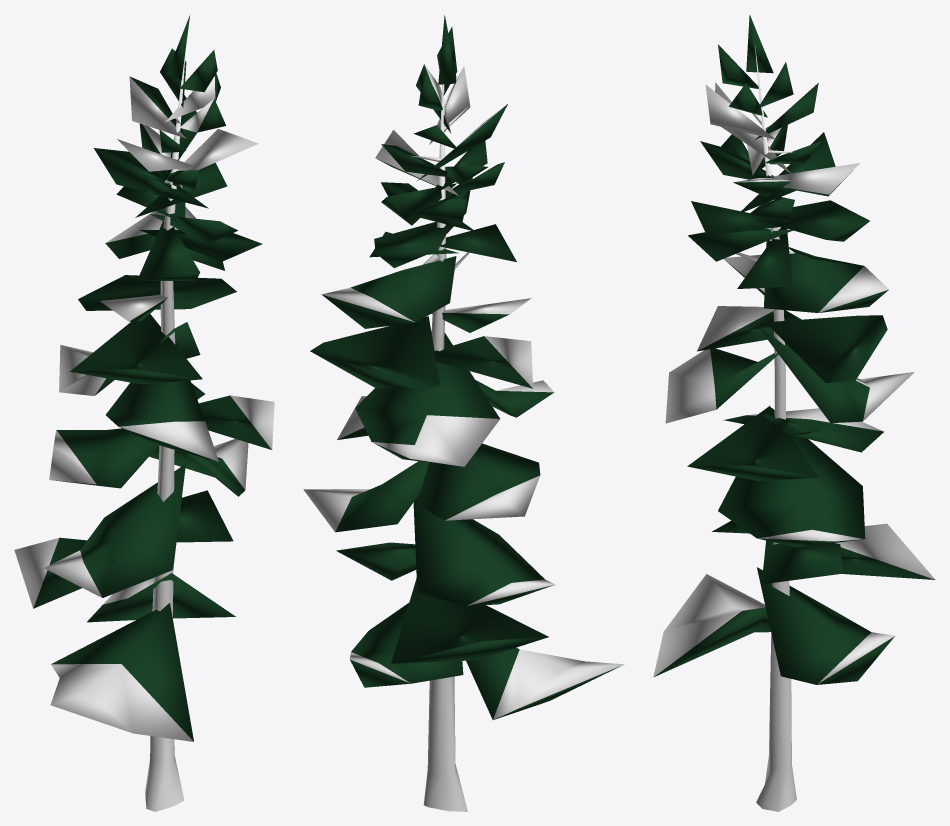
The model's file is pineBig1Snow_low.glb.
The picture shows the model from 3 angles, left to right: view 1: azimuth 30°, elevation 25°; view 2: azimuth 150°, elevation 25°; view 3: azimuth 270°, elevation 25°; orthographic projection.
Parts seen in each view (by area): view 1: Cube.001; view 2: Cube.001; view 3: Cube.001.
Boxes of the visible parts, x1=… form: Cube.001: x1=14, y1=14, x2=274, y2=811; Cube.001: x1=303, y1=15, x2=624, y2=811; Cube.001: x1=653, y1=15, x2=935, y2=811.
Bounding box in the file's own units: 17.26 × 49.98 × 16.01.
